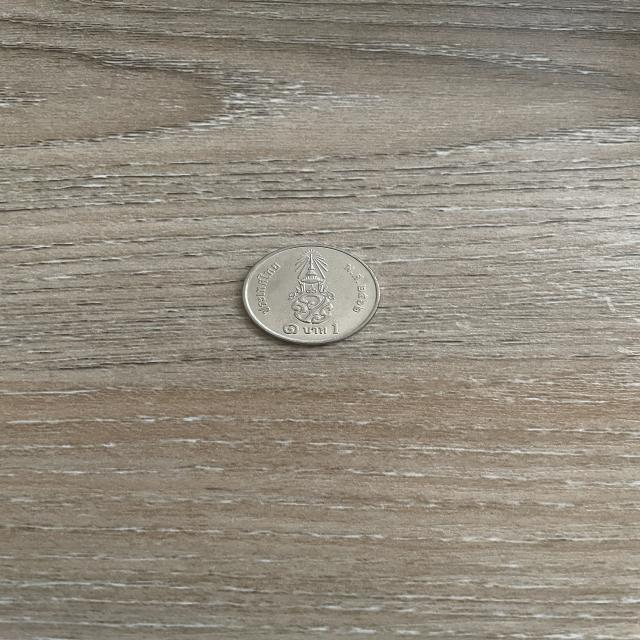1 Bath: (237, 238, 392, 353)
